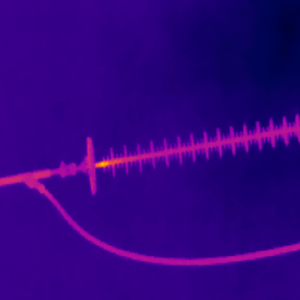insulator: (93, 116, 300, 167)
